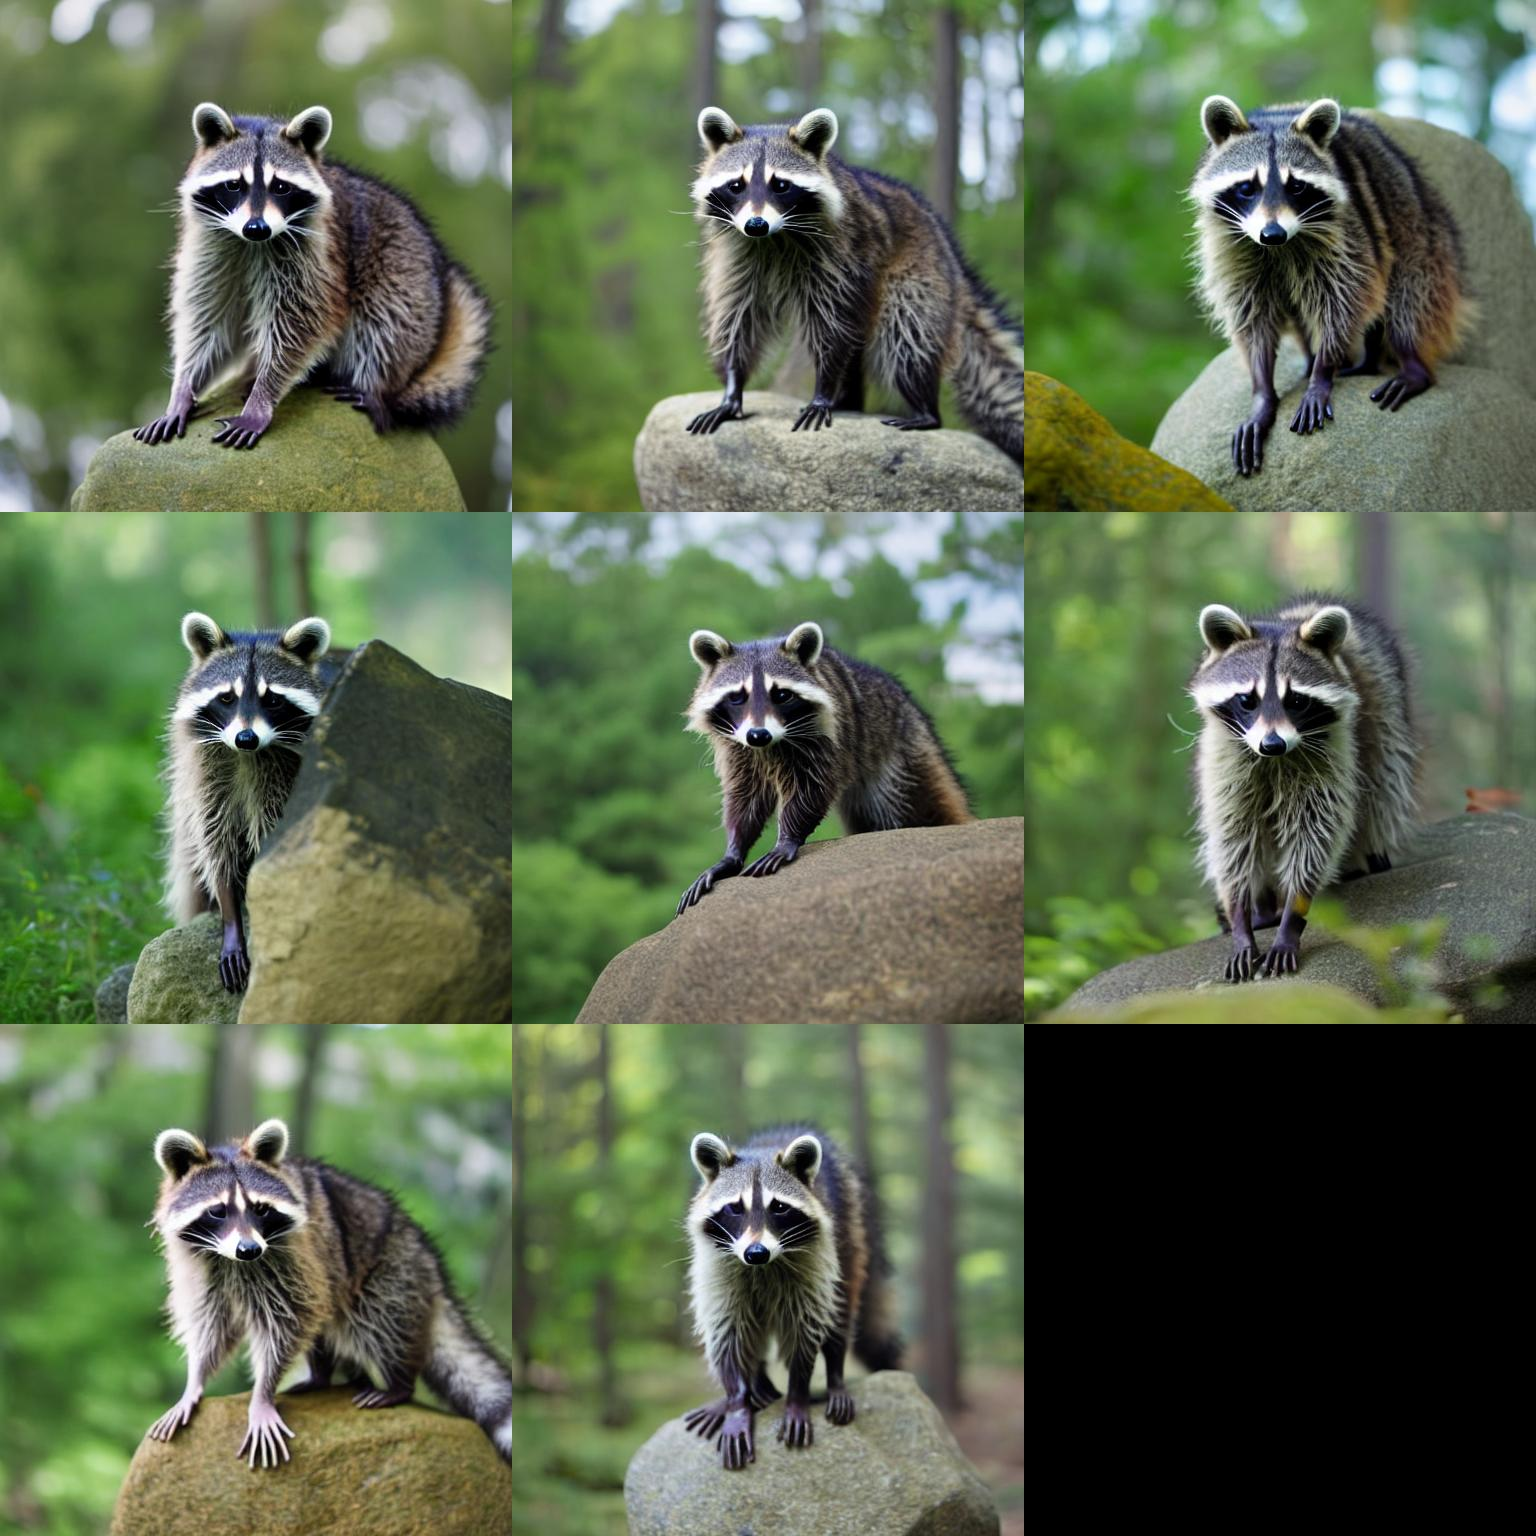raccoon: (160, 86, 498, 430), (681, 103, 1023, 425), (146, 1113, 508, 1416), (1180, 87, 1490, 363), (1173, 585, 1418, 892), (671, 609, 978, 845), (141, 608, 347, 893), (675, 1108, 878, 1378)
